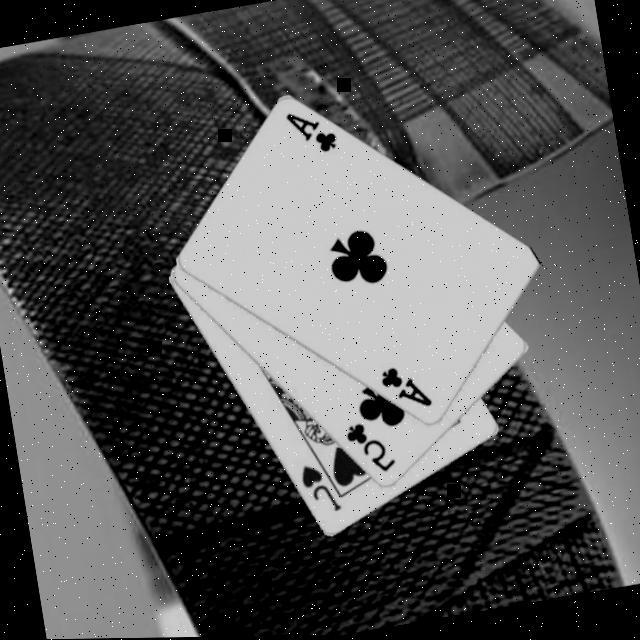5C: (340, 414, 398, 480)
AC: (280, 102, 340, 162), (375, 358, 435, 417)
JH: (294, 457, 344, 520)
